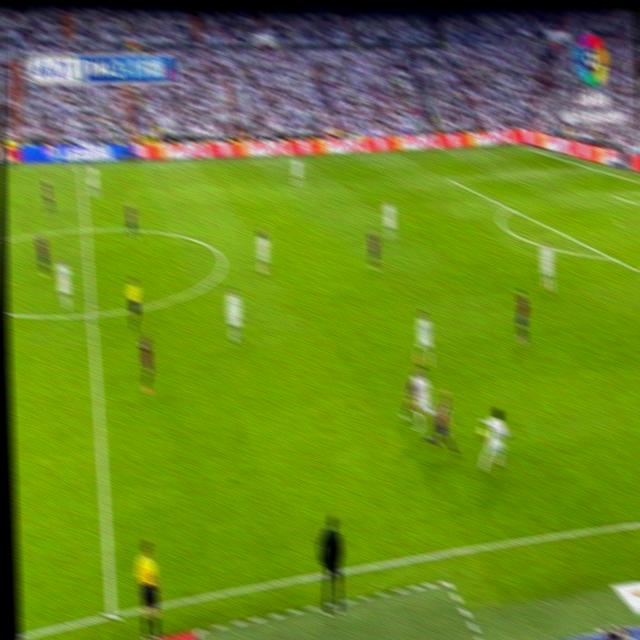halfcircle_bottom: (84, 301, 98, 326)
halfcircle_top: (79, 220, 91, 238)
midline_bottom_intersection: (101, 600, 120, 624)
midline_top_intersection: (75, 161, 84, 173)
top_arc_area_intersection: (503, 199, 513, 215)
